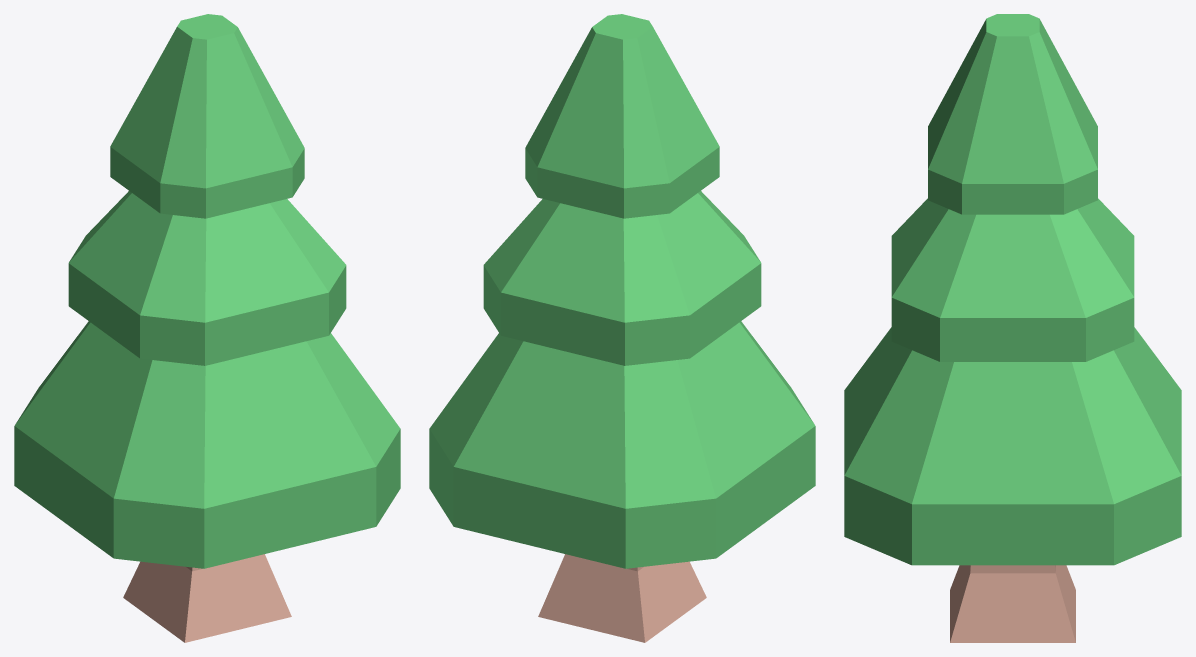
Rendered from n_tree_pineSmallA.glb.
The picture shows the model from 3 angles, left to right: view 1: azimuth 30°, elevation 25°; view 2: azimuth 150°, elevation 25°; view 3: azimuth 270°, elevation 25°; orthographic projection.
Parts seen in each view (by area): view 1: tree_pineSmallA; view 2: tree_pineSmallA; view 3: tree_pineSmallA.
Part boxes in pixels (x1,y1,x2,y2): tree_pineSmallA: (14,14,400,642); tree_pineSmallA: (429,14,815,642); tree_pineSmallA: (844,14,1181,642).
Bounding box in the file's own units: 1.29 × 2.5 × 1.29.
